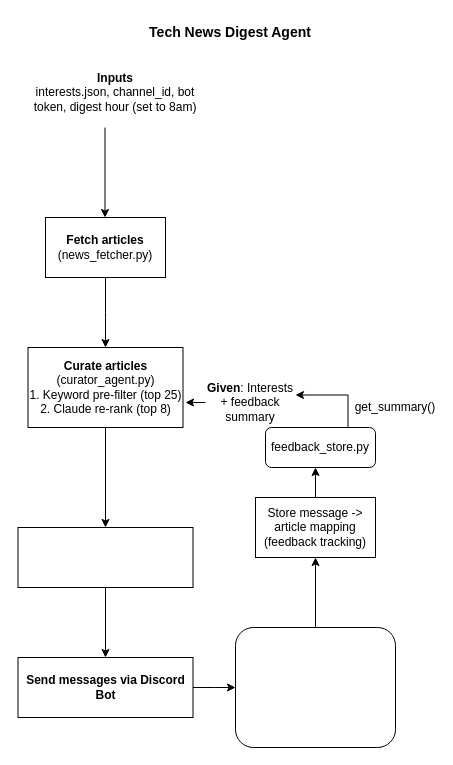
Image size: 453x765. Some labels were removed from this diagram. The shapes that lost their labels are listed below. From the top down, each one's box as (x1, y1, x2, y2) in pixels, then its label:
(17, 526, 193, 588): Summarize each article (summarizer_agent.py)
(234, 626, 396, 748): Schema (discord.Embed) title url summary source category relevance_score
